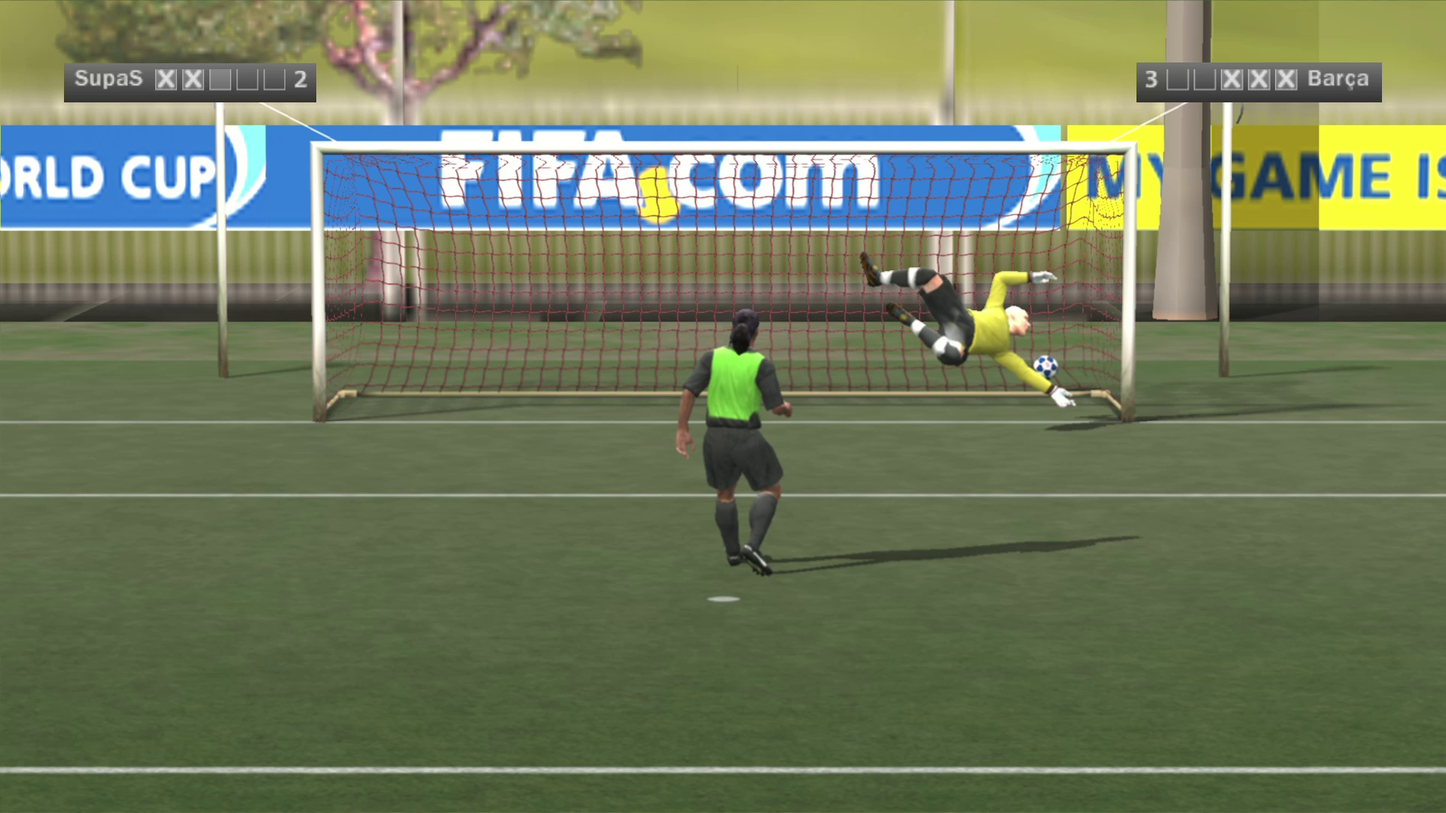ball: (1023, 340, 1046, 367)
goal_post: (0, 27, 721, 289)
keeper: (763, 179, 943, 325)
kicker: (637, 182, 738, 441)
